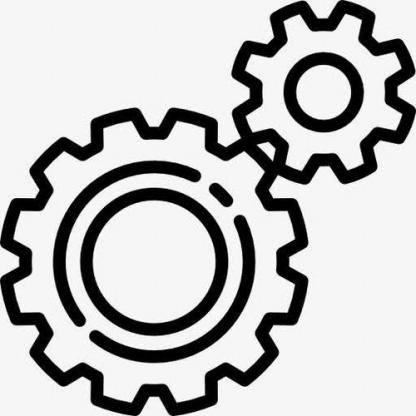FOD: (0, 102, 311, 415), (231, 0, 415, 185)
